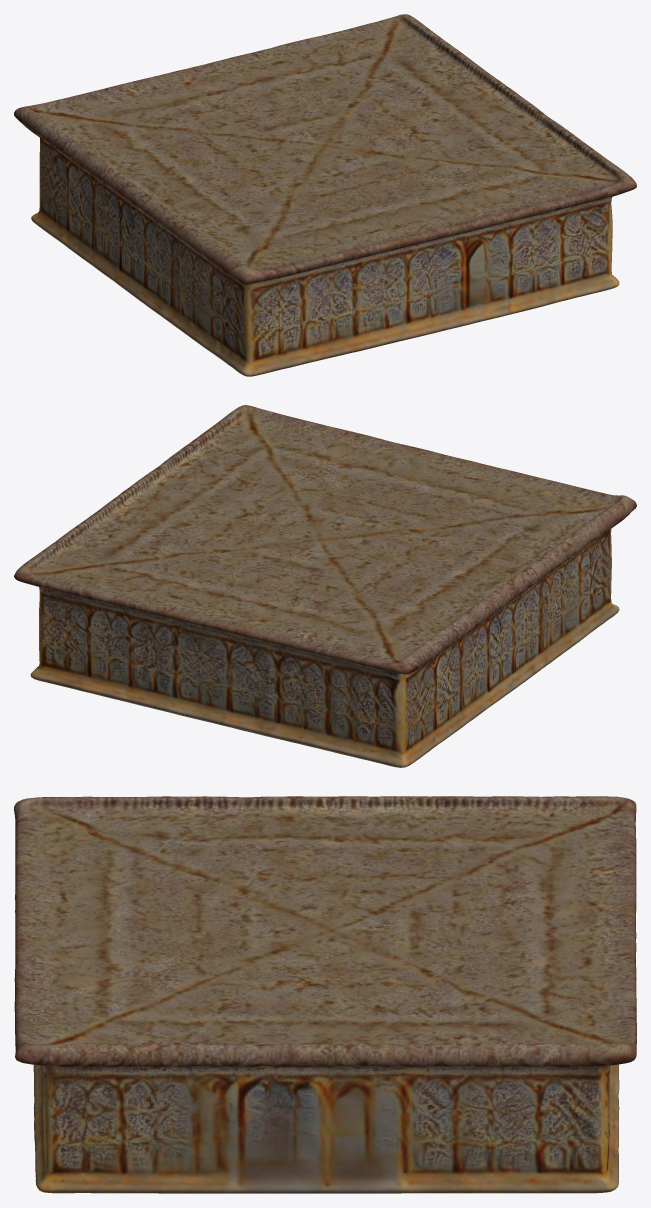
Rendered from 9ada9d239447_An_indoor_egyptian_.fbx.
3 views of the same model, one above another, from view 1: azimuth 30°, elevation 25°; view 2: azimuth 150°, elevation 25°; view 3: azimuth 270°, elevation 25° (orthographic). The views are drawn at different scales.
Visible parts, largest first — view 1: high_poly; view 2: high_poly; view 3: high_poly.
Part boxes in pixels (x1,y1,x2,y2): high_poly: (14, 14, 636, 376); high_poly: (14, 405, 636, 767); high_poly: (14, 796, 636, 1193).
Bounding box in the file's own units: 98.22 × 27.06 × 100.
